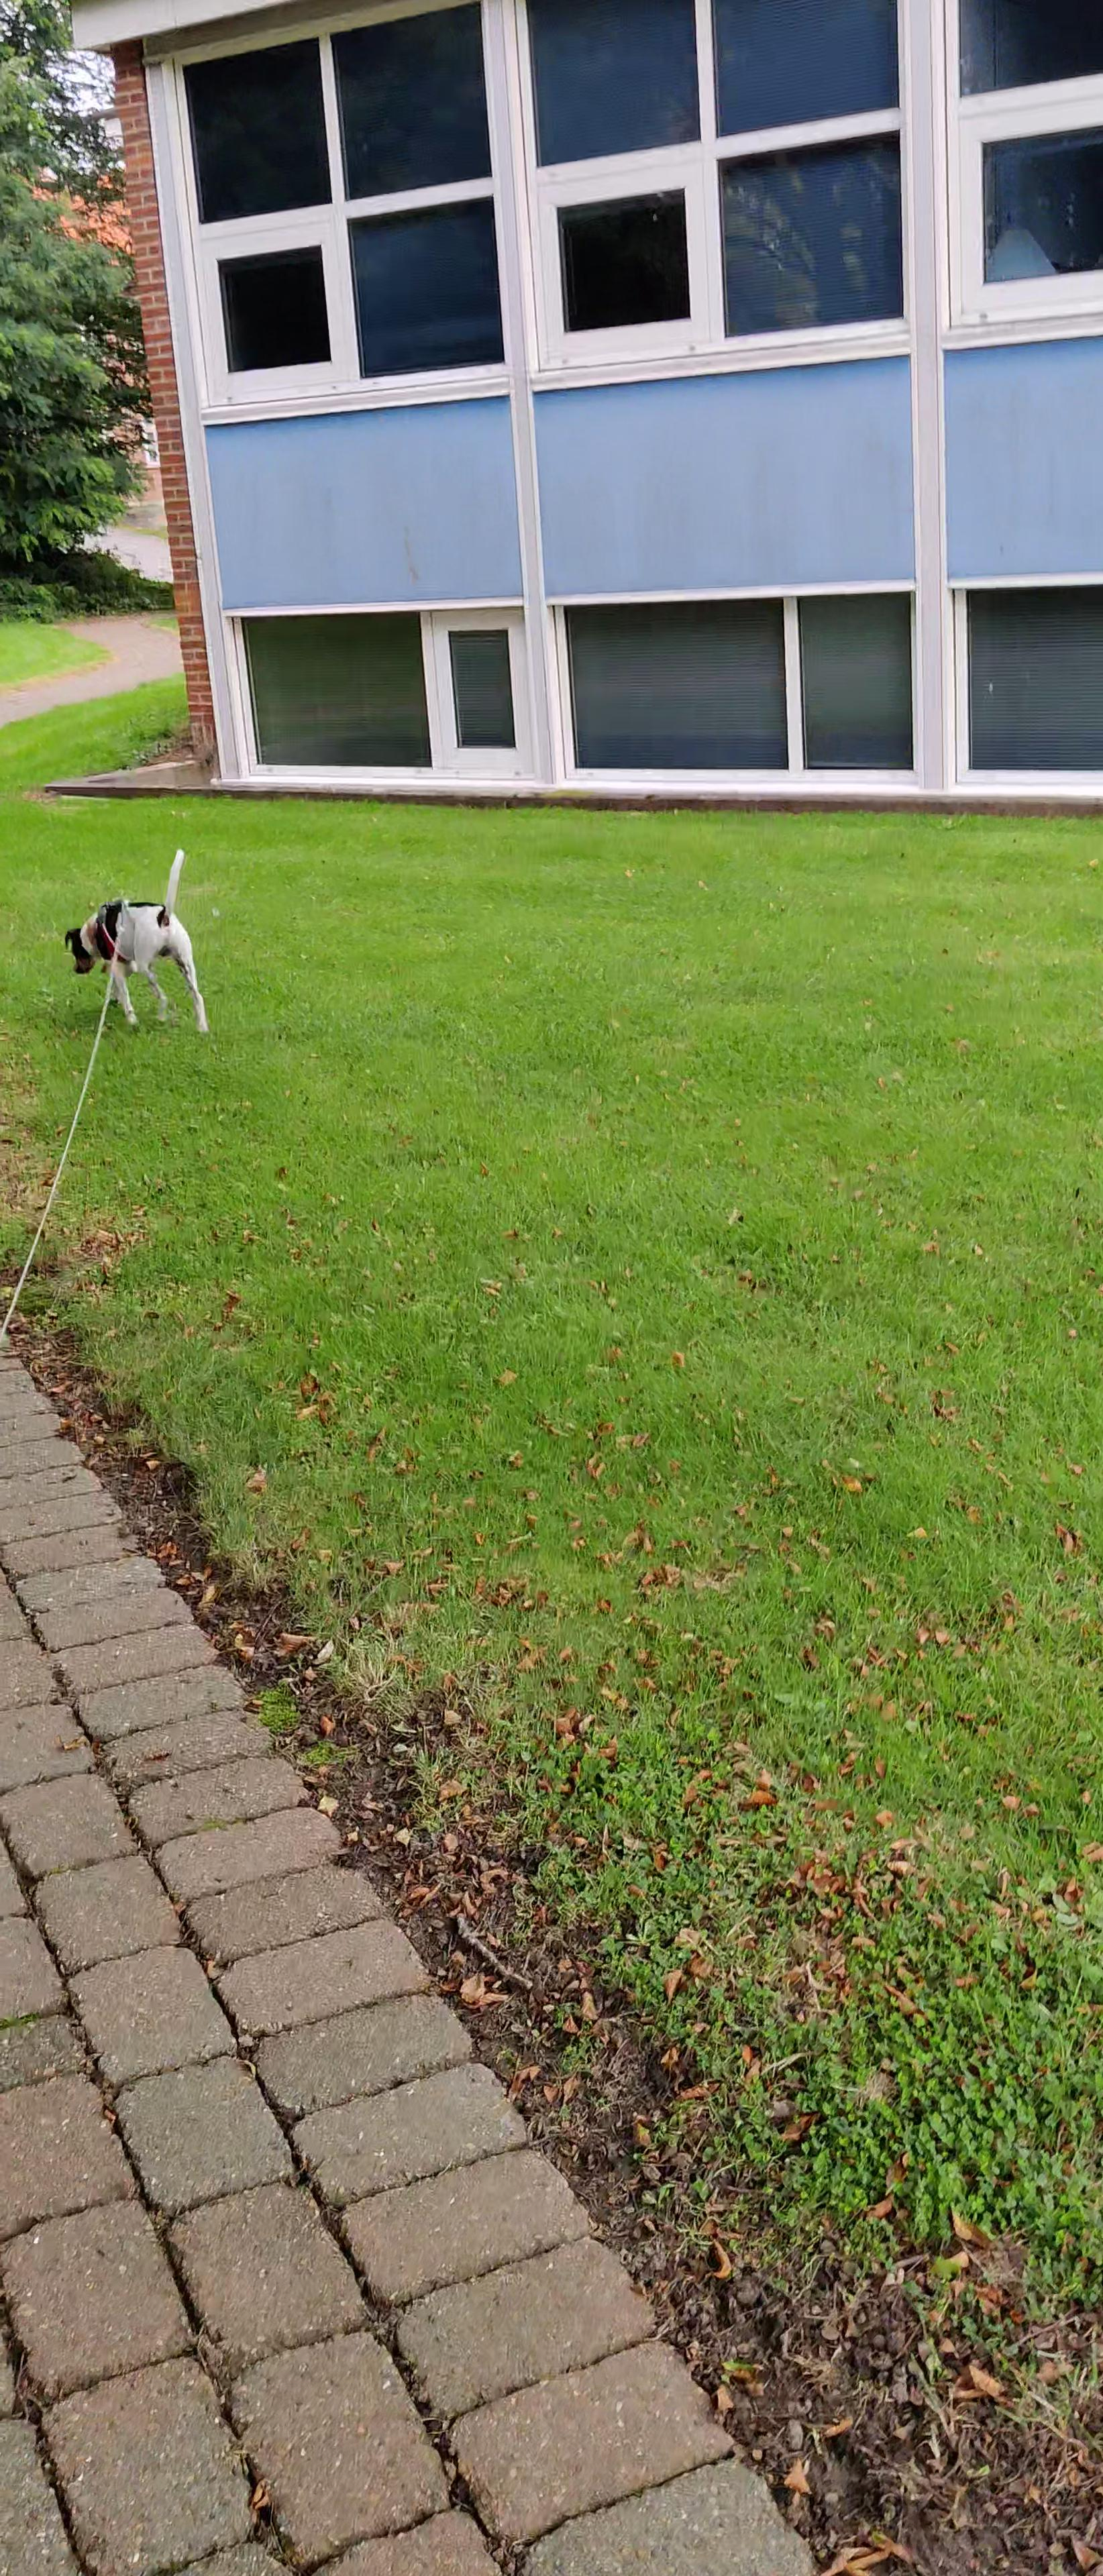Dog: (59, 846, 212, 1037)
